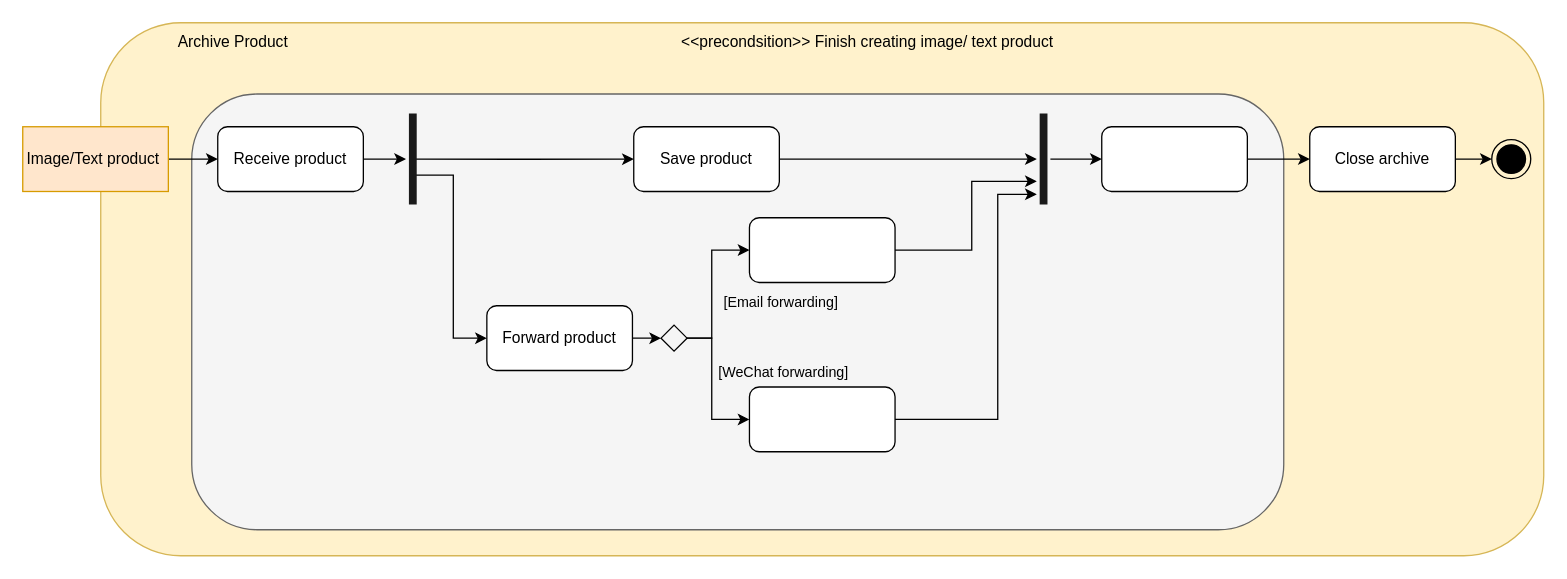
The diagram is 1567 pixels wide and 579 high, and some of its shapes have lost their labels. Here are the shapes that lost their labels. From the top down, the box of each, then its label:
(1100, 125, 1247, 191): Delete archive
(748, 216, 895, 282): Forward product via Email
(748, 386, 895, 452): Forward product via WeChat
